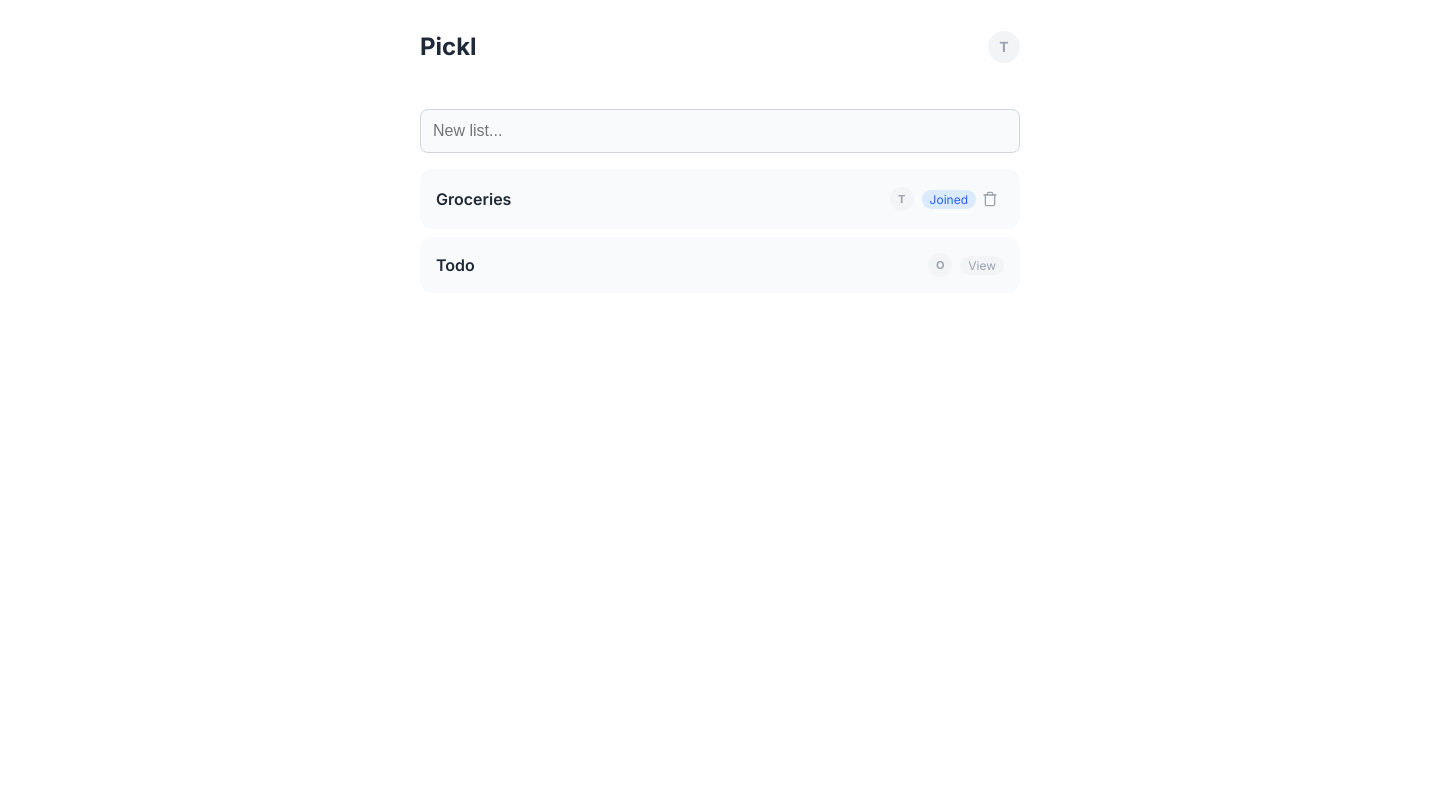
it: ListsPage › shows confirmation dialog on delete click
expect the text "Groceries" is shown: met, box [436,189,511,209]
Click the button named "Delete list": (990, 199) [976,185,1004,213]
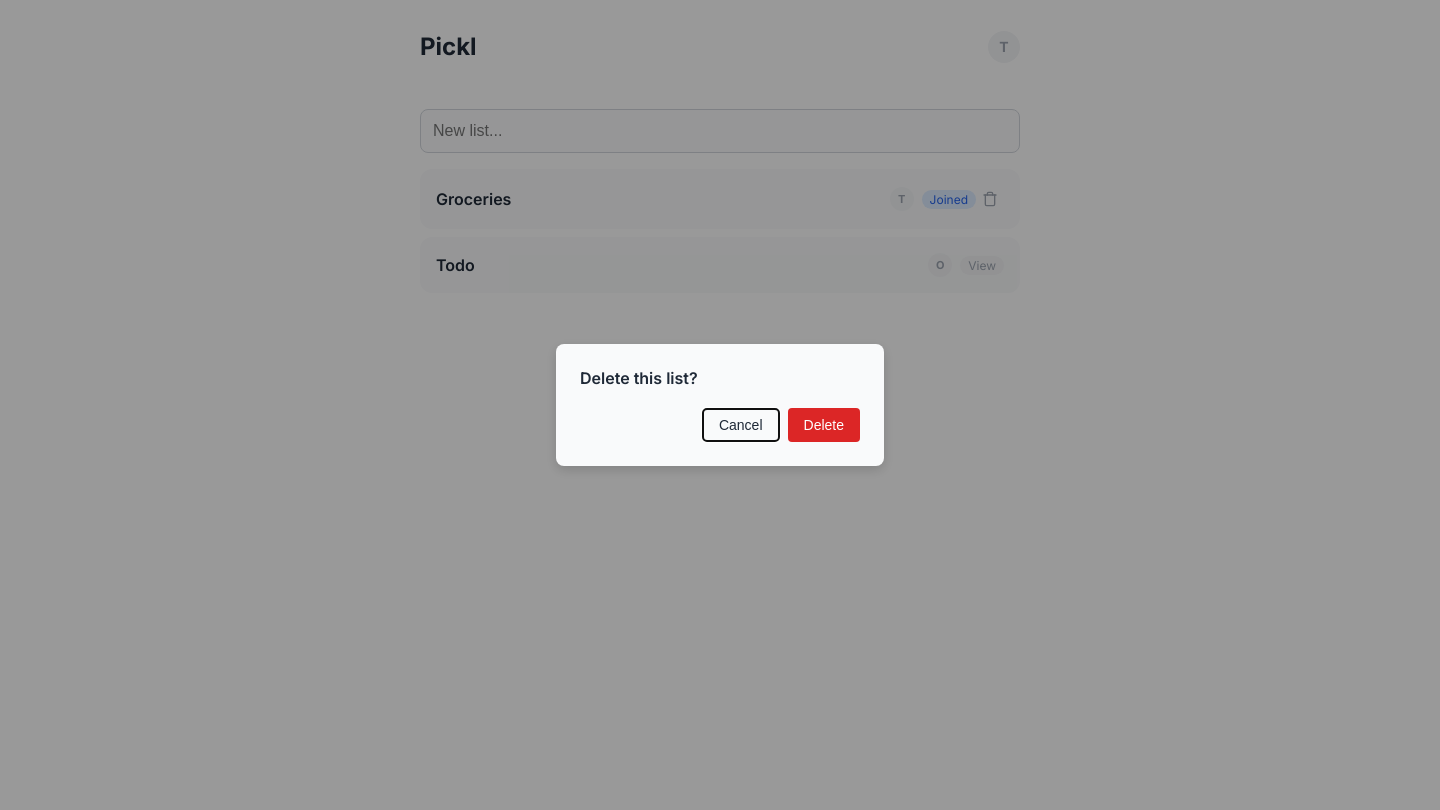
expect the heading "Delete this list?" is shown: met, box [580,368,698,388]
